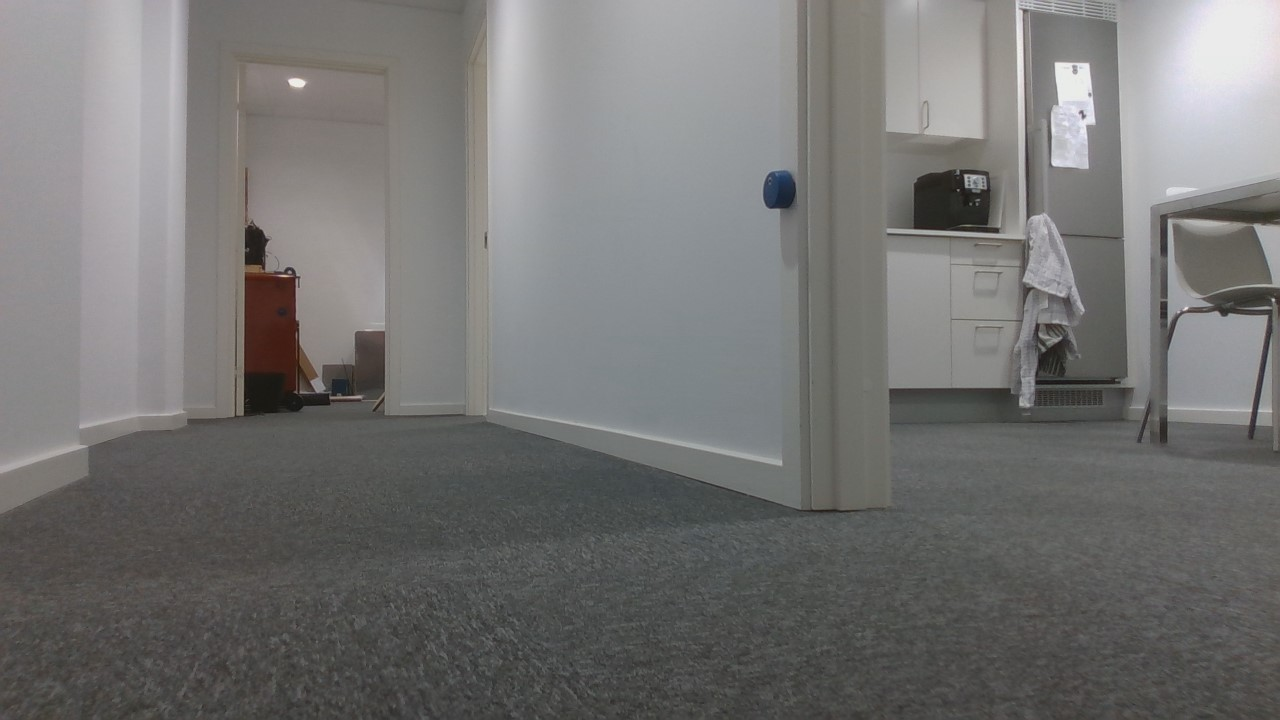alfa: (760, 169, 801, 213)
